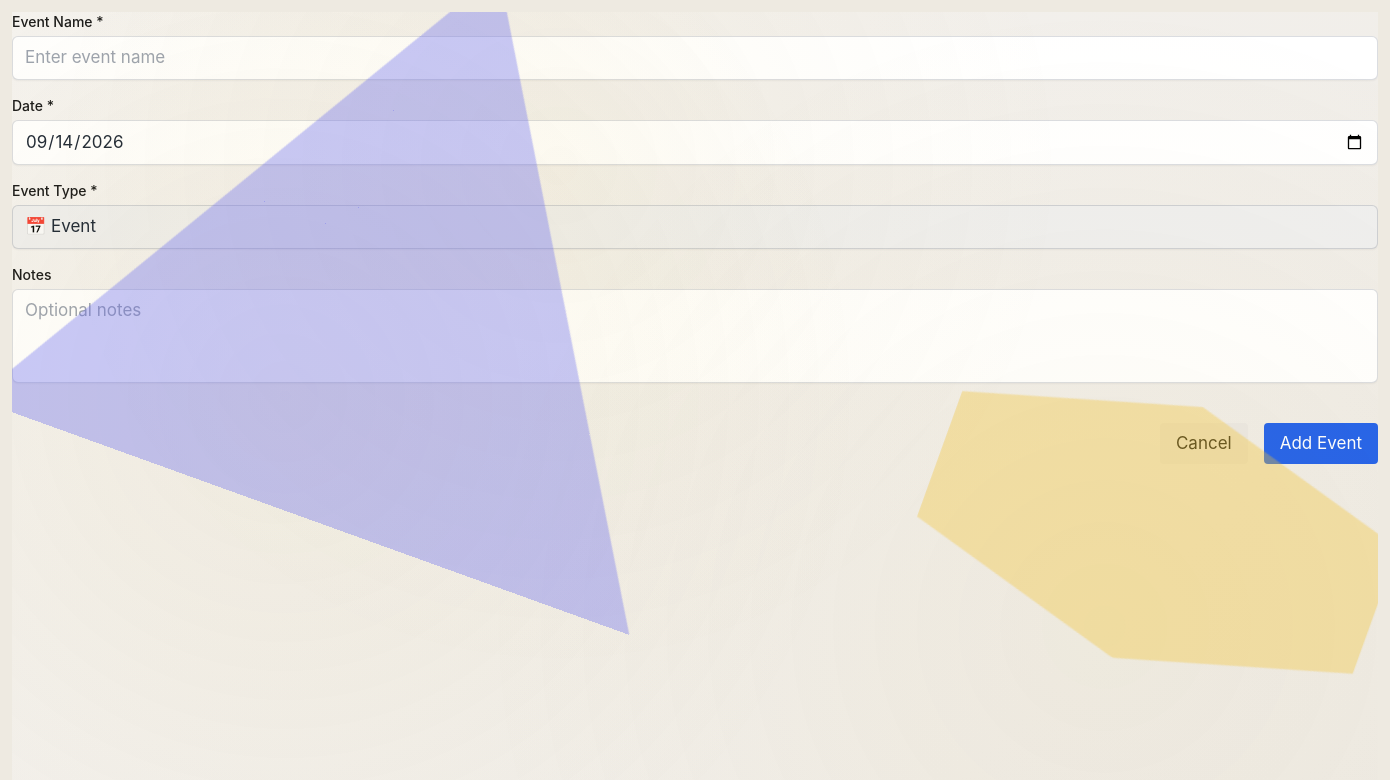
Test: CalendarEventModal › Error Handling › should display error message when save fails
# Fill form
Type "Test Event" into the field labelled "Event Name *" at (695, 58), box [12,36,1378,80]
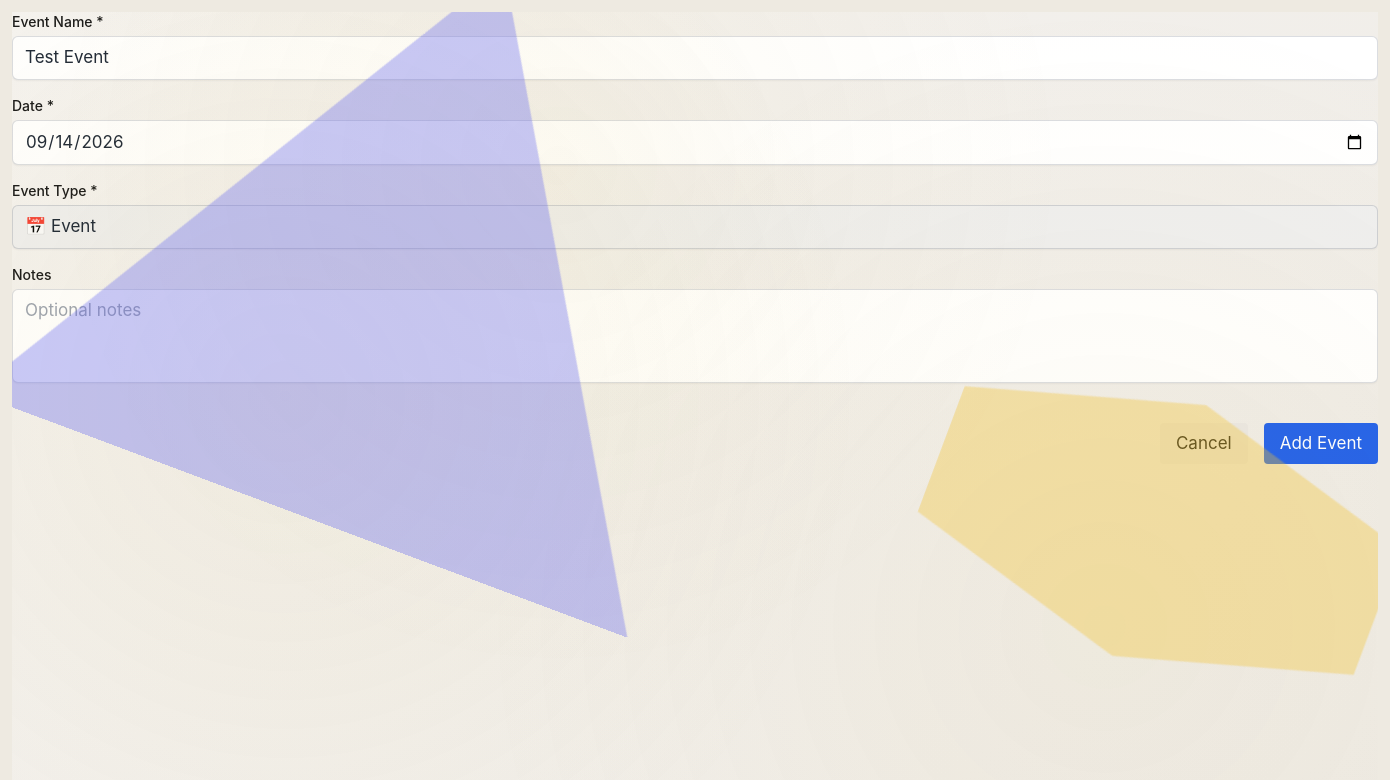
# Submit form
Click the button "Add Event" at (1321, 443), box [1264,422,1378,464]
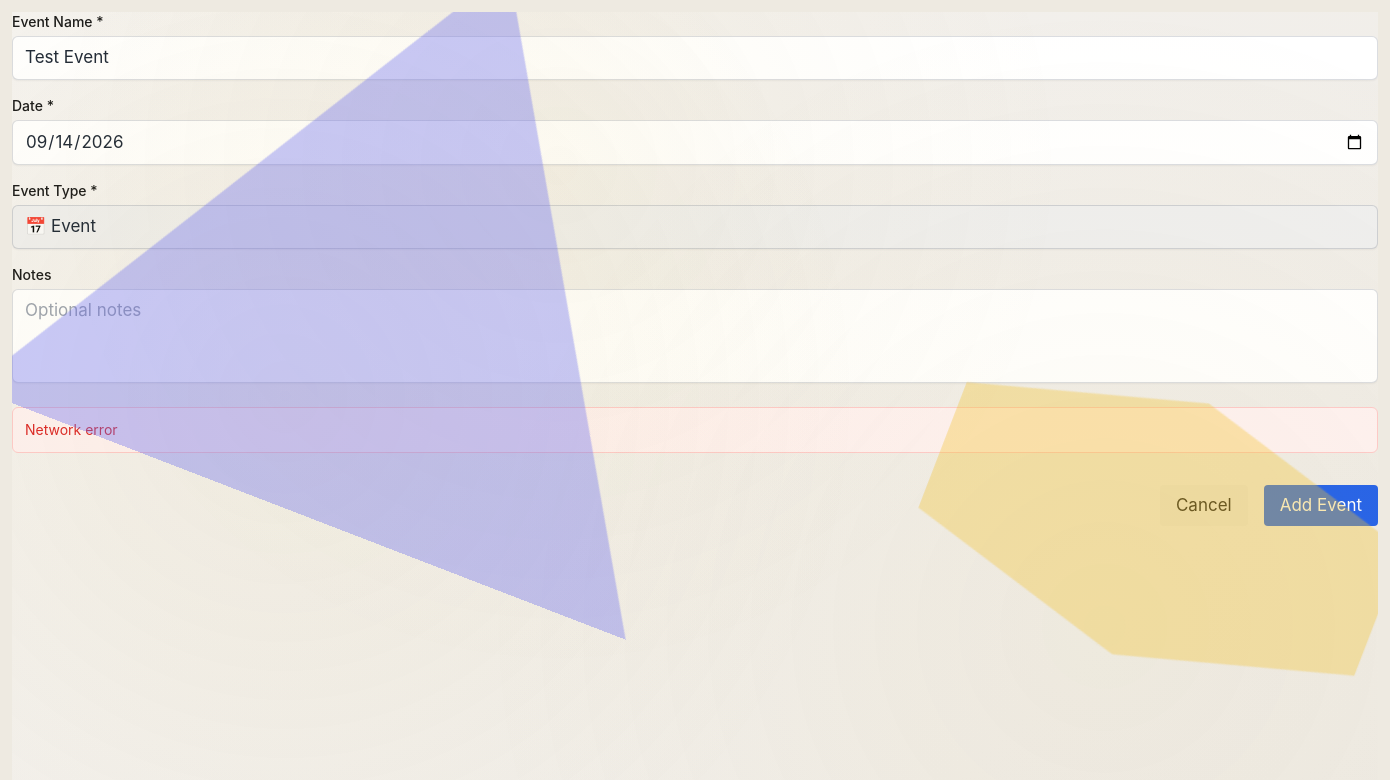
Now the text "Network error" is shown, box [25,420,118,438]
